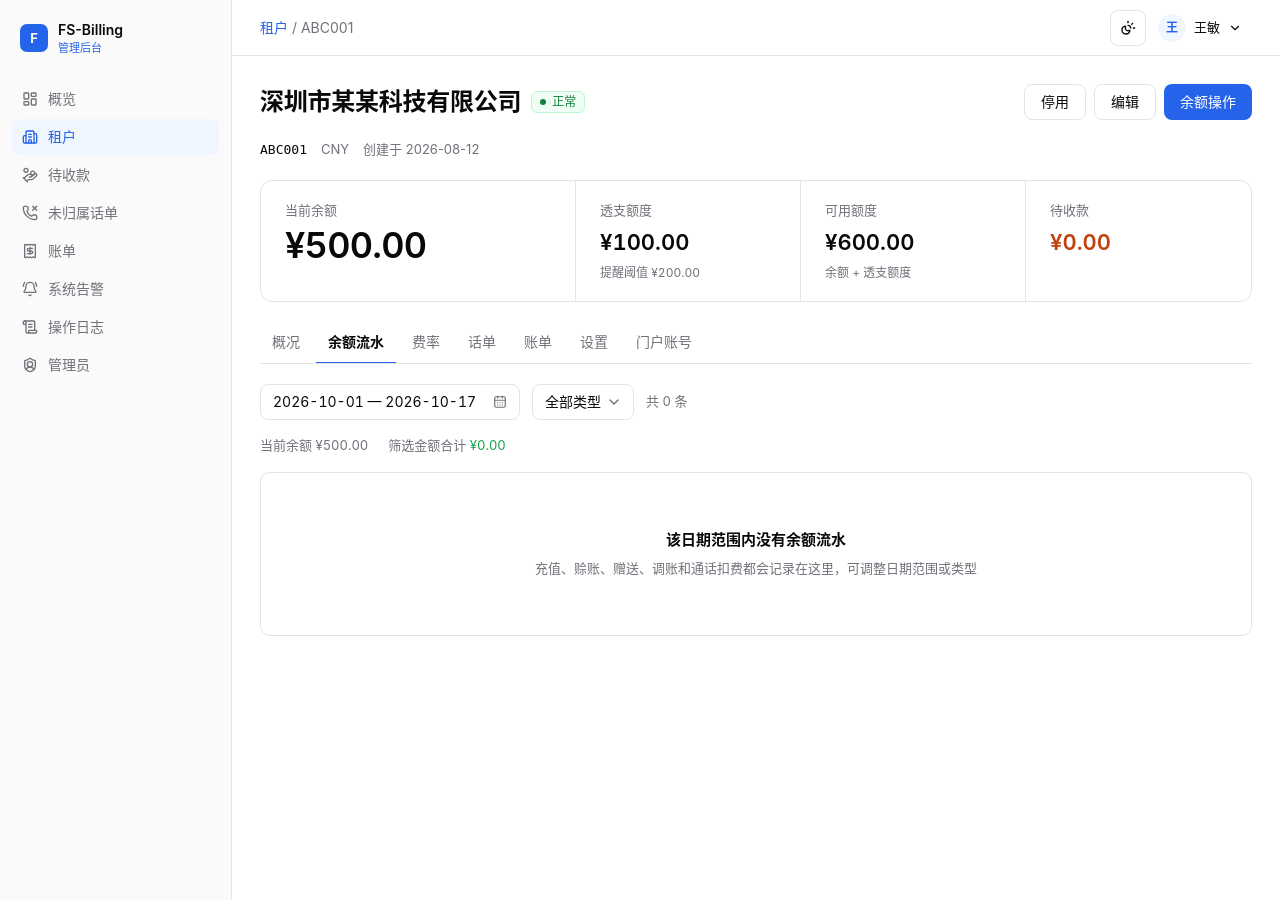
Test: ledger tab filters › cancelling the calendar keeps the range
Expected: the text "该日期范围内没有余额流水" is shown, [666, 528, 846, 551]
Click the button "2026-10-01 — 2026-10-17". click: coordinates (390, 402)
box: [260, 384, 520, 420]
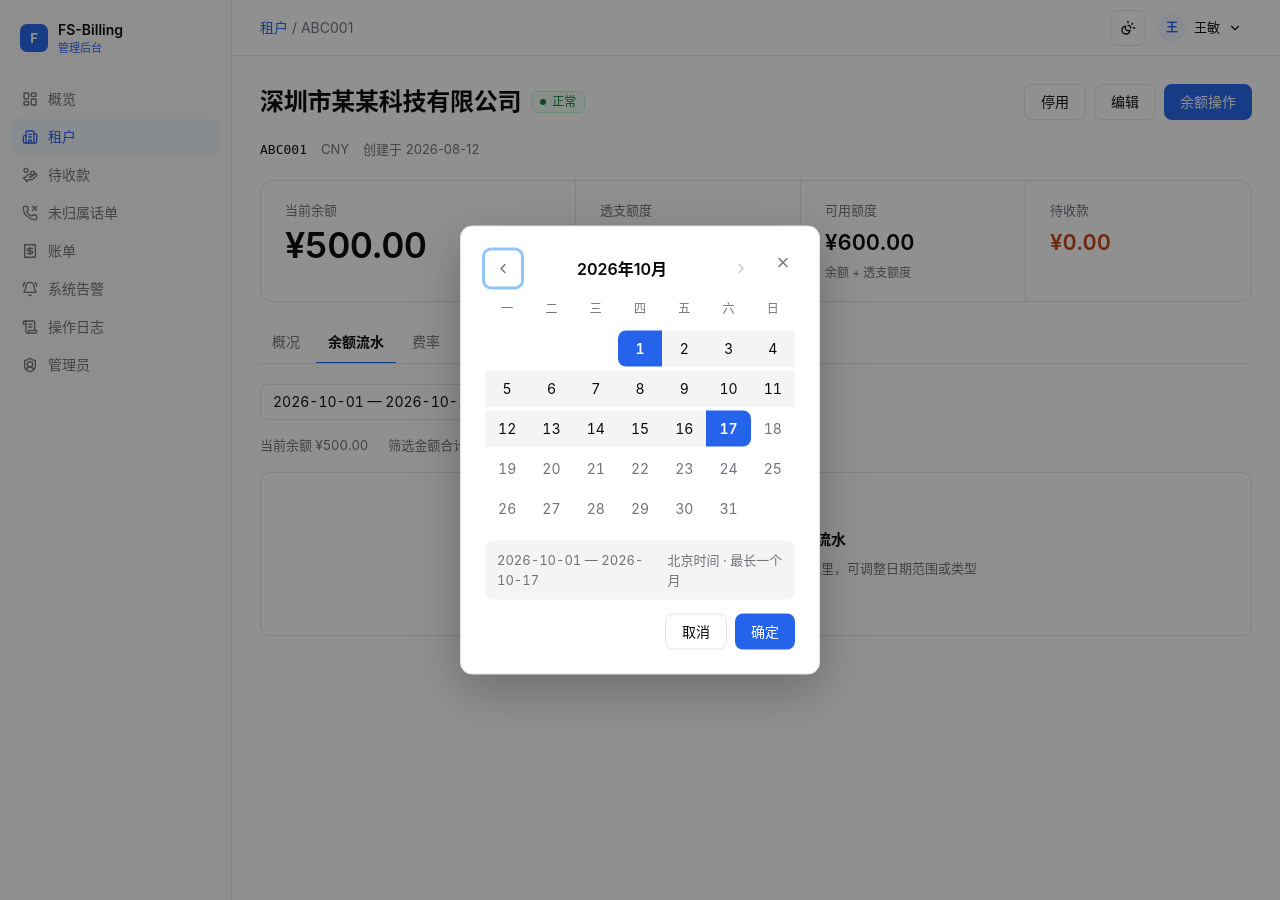
Click the button named "2026-10-05". click: coordinates (507, 388)
box: [485, 370, 529, 406]
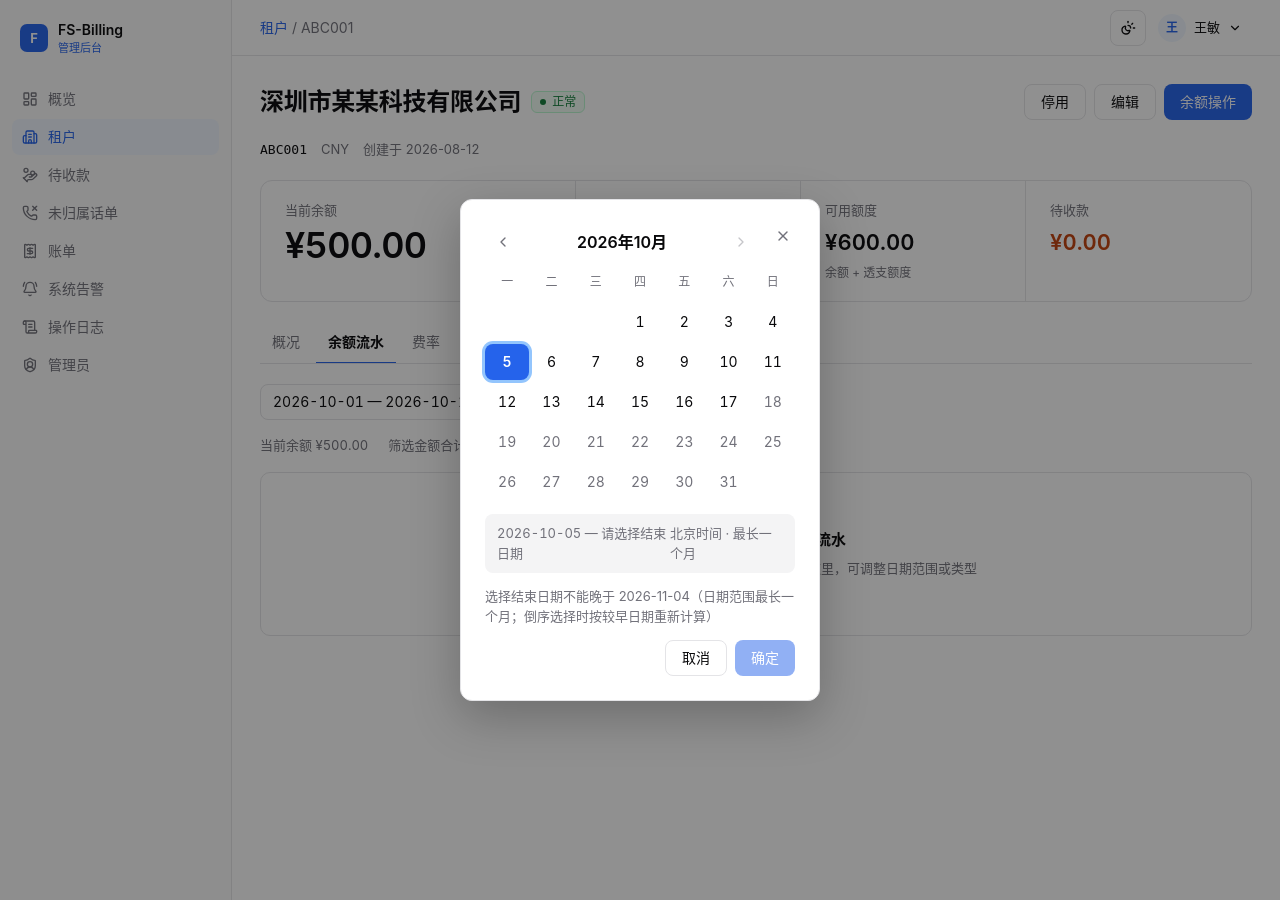
Click the button "取消". click: coordinates (696, 658)
box: [665, 640, 727, 676]
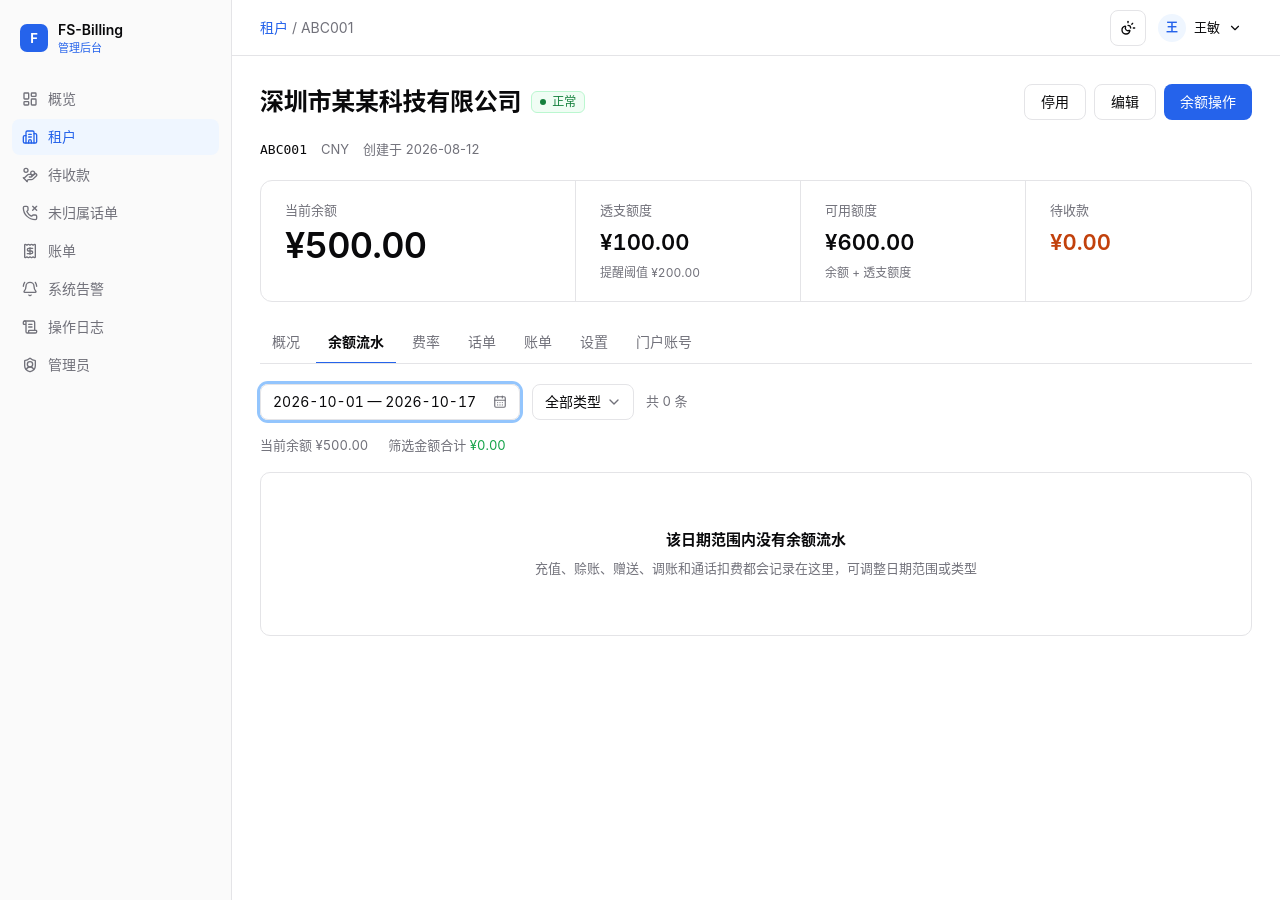
Expected: the dialog is gone
